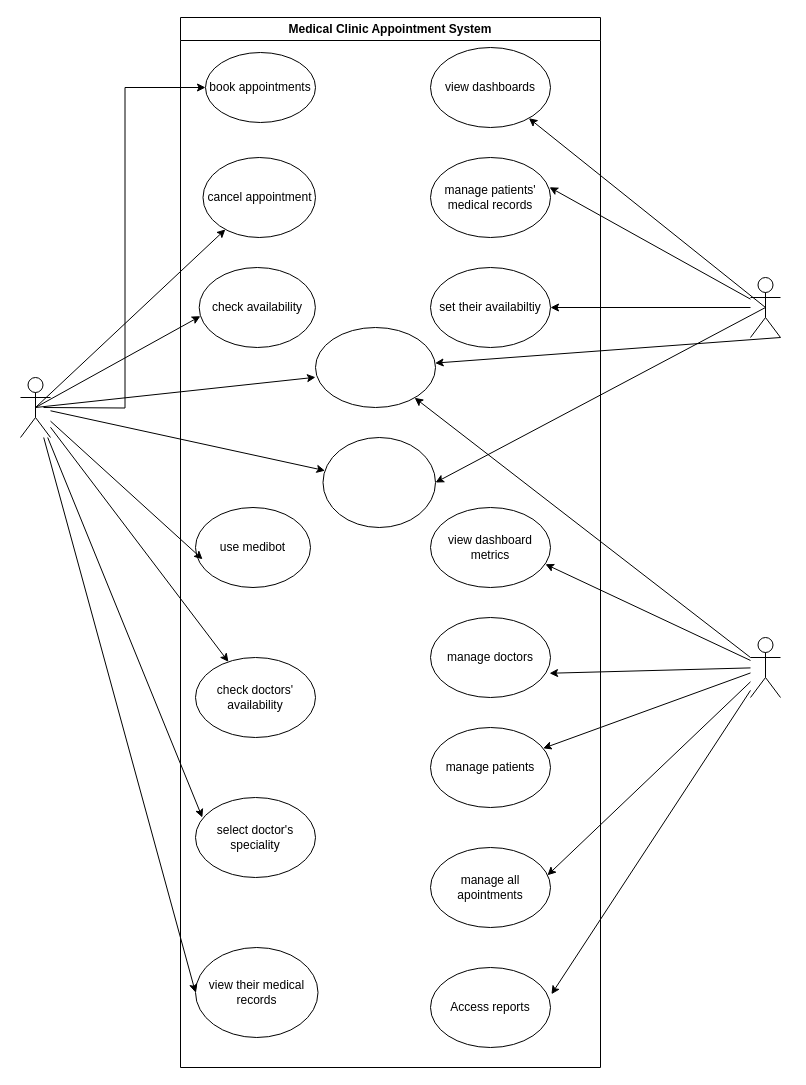
Image size: 806x1085. Some labels were removed from this diagram. The centre of each missing label's shape, as x and y in pixels:
"Admin" belongs at [765,667].
"Doctor" belongs at [765,307].
"Patient" belongs at [35,407].
"receive notifications" belongs at [379,482].
"register / log in / log out" belongs at [375,367].
